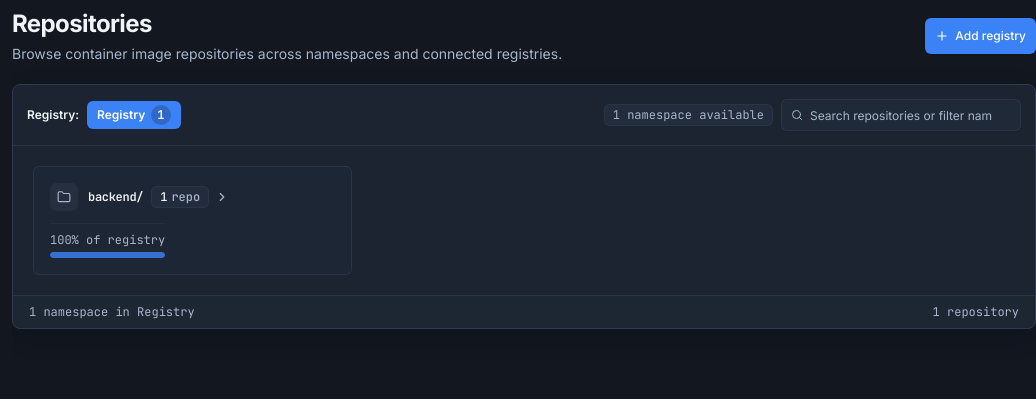
Scenario: Repository search › matches namespaces when the search has surrounding whitespace
In the field named "Search repositories or namespaces": (901, 115) 781,99 -> 1021,131, type " backend "
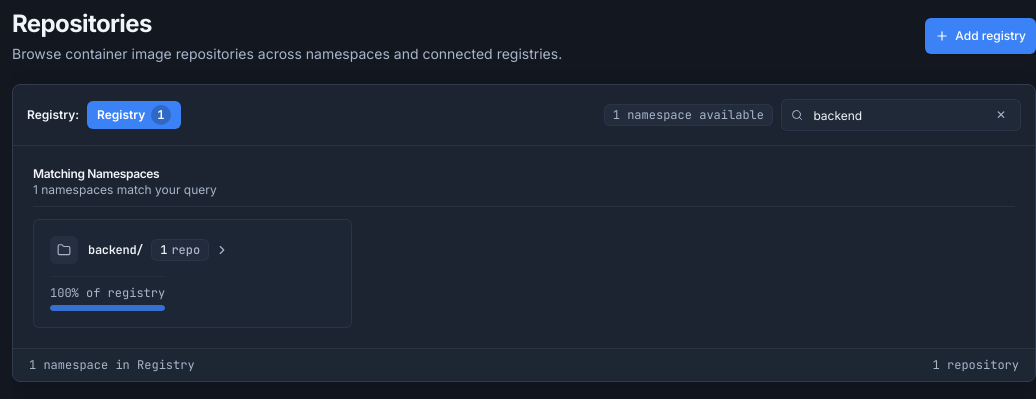
Expected: the button "backend/ 1 repo 100% of registry" is shown, 33,219 -> 352,328
Expected: the heading "Matching Namespaces" is shown, 33,166 -> 159,181
